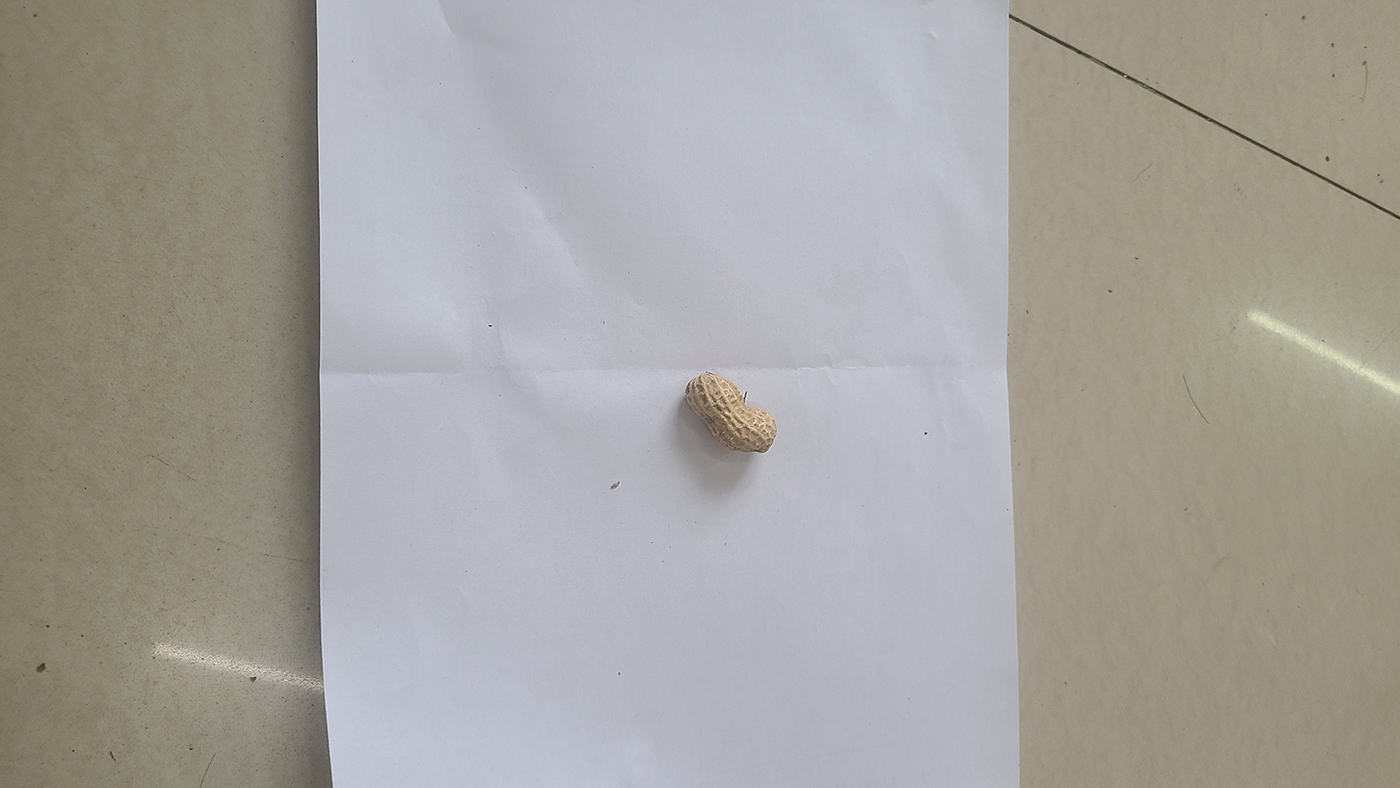h: (684, 372, 778, 453)
